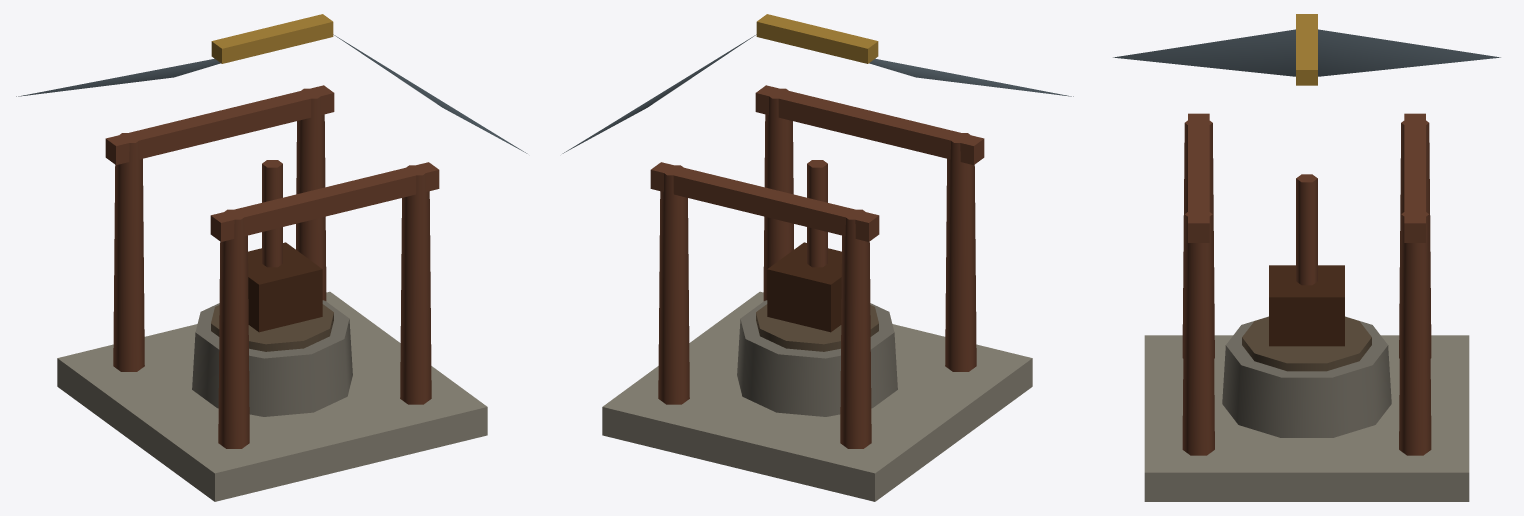
The model's file is tang-well.glb.
3 views of the same model, side by side, from view 1: azimuth 30°, elevation 25°; view 2: azimuth 150°, elevation 25°; view 3: azimuth 270°, elevation 25° (orthographic). The views are drawn at different scales.
Visible parts, largest first — view 1: tang-well; view 2: tang-well; view 3: tang-well.
Boxes of the visible parts, x1,y1,x2,y2 form: tang-well: (16,14,527,501); tang-well: (562,14,1073,501); tang-well: (1113,14,1500,501).
Size of the model in its own units: 3.74 by 3.99 by 3.74.
